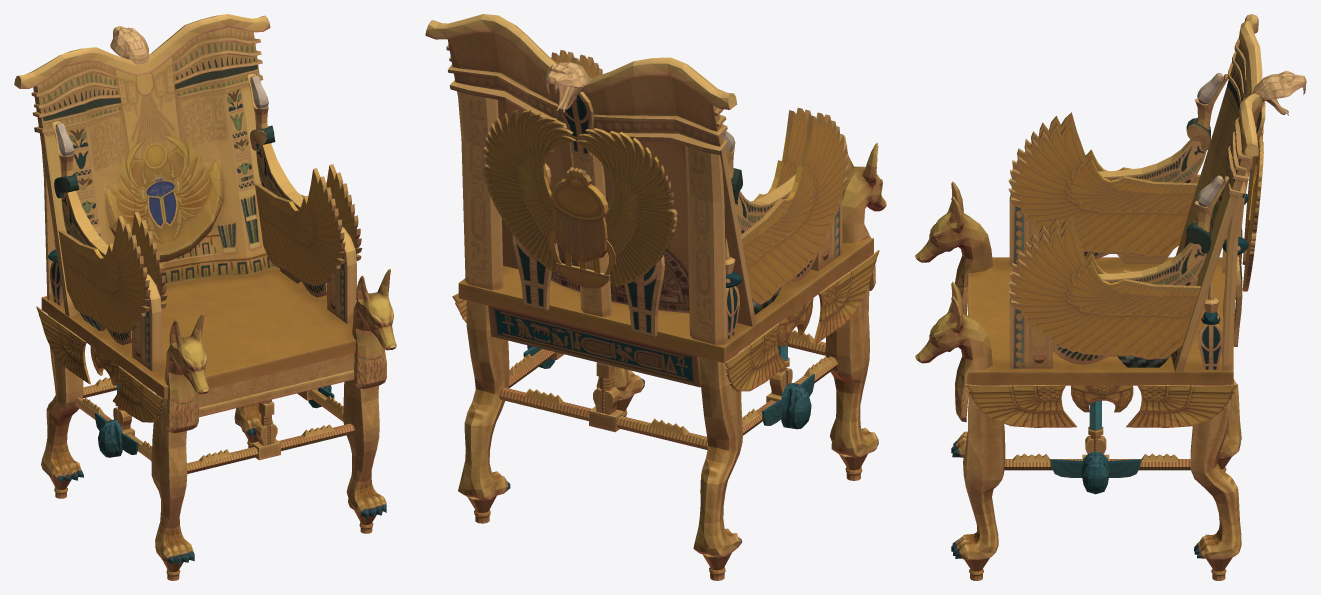
File: trono.glb
3 renders of one model, left to right at view 1: azimuth 30°, elevation 25°; view 2: azimuth 150°, elevation 25°; view 3: azimuth 270°, elevation 25°, orthographic. The views are drawn at different scales.
Visible parts, largest first — view 1: Object_4; view 2: Object_4; view 3: Object_4.
Boxes of the visible parts, left/top/right/bottom form: Object_4: left=14, top=14, right=396, bottom=580; Object_4: left=425, top=14, right=886, bottom=580; Object_4: left=915, top=14, right=1306, bottom=580.
Size of the model in its own units: 0.7788 by 1.28 by 0.9768.
1 material, 1 textured.
